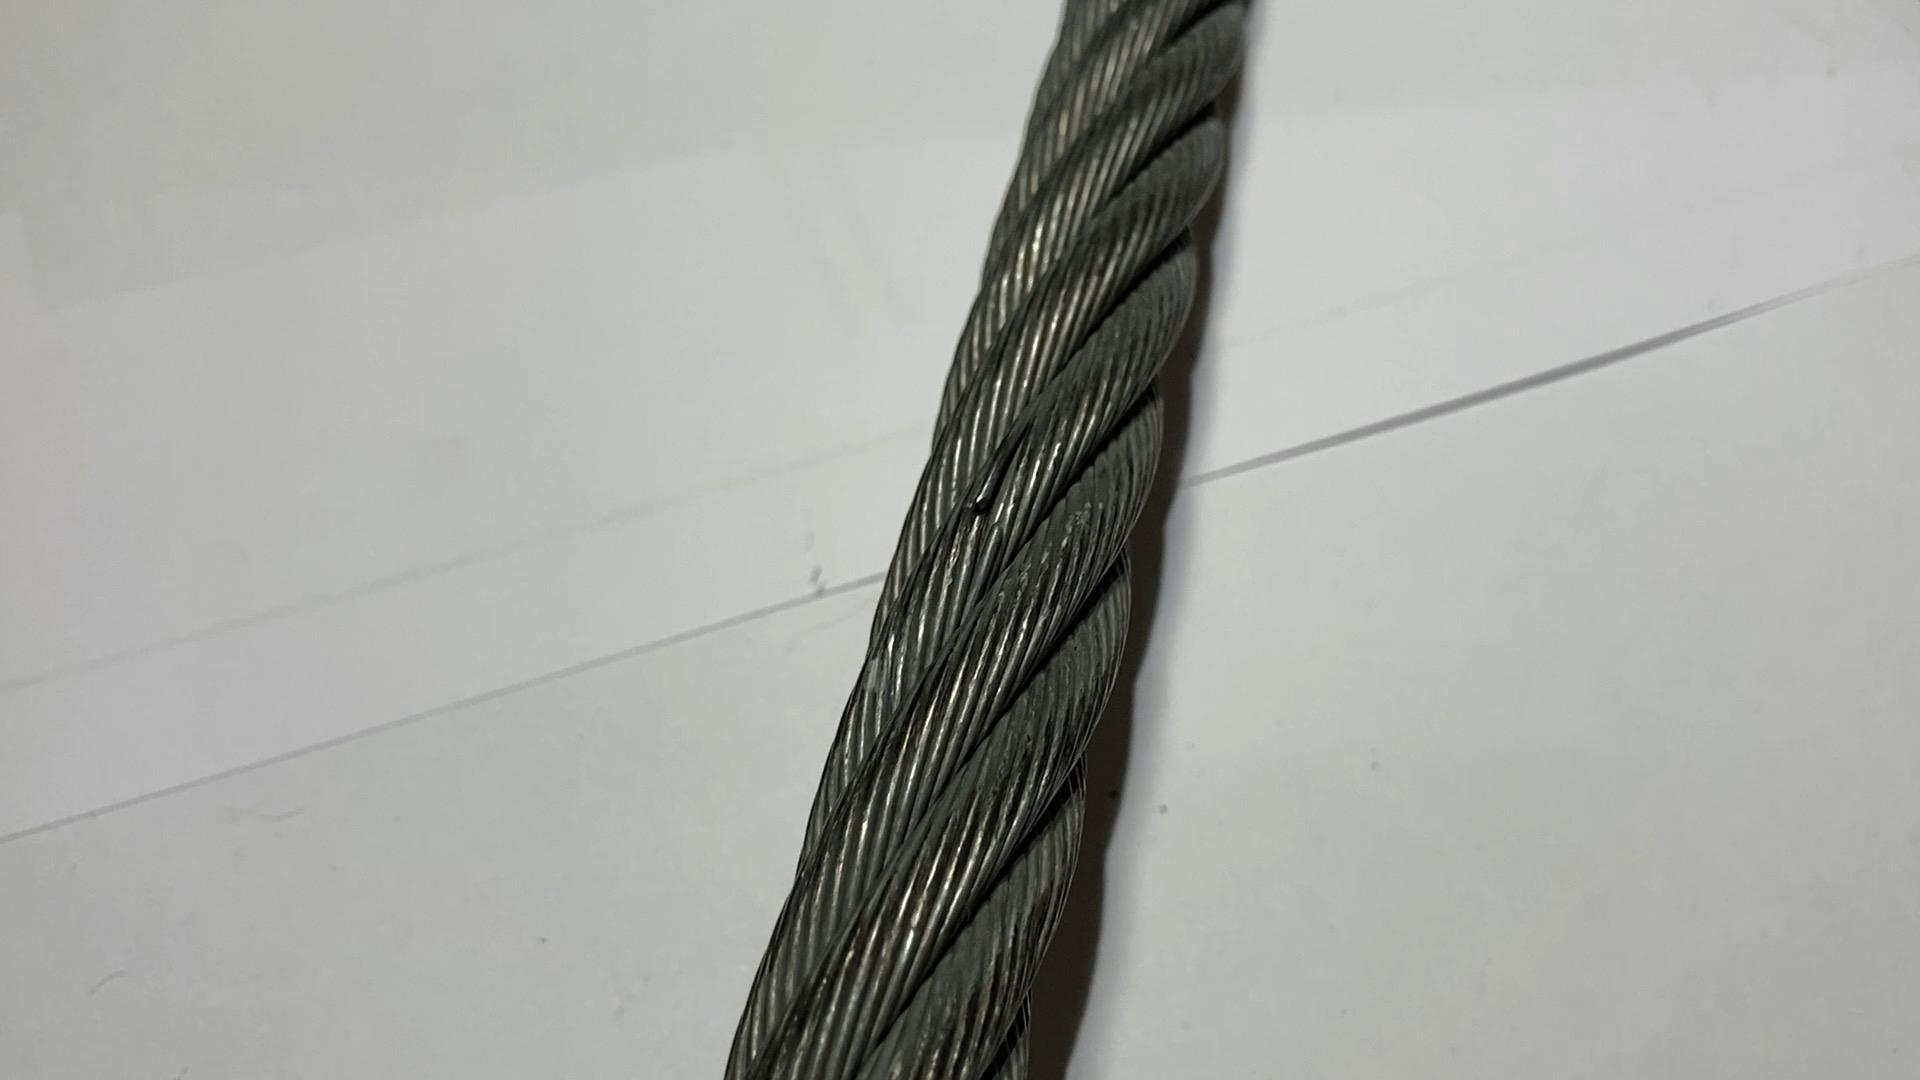break: (957, 458, 1014, 530)
